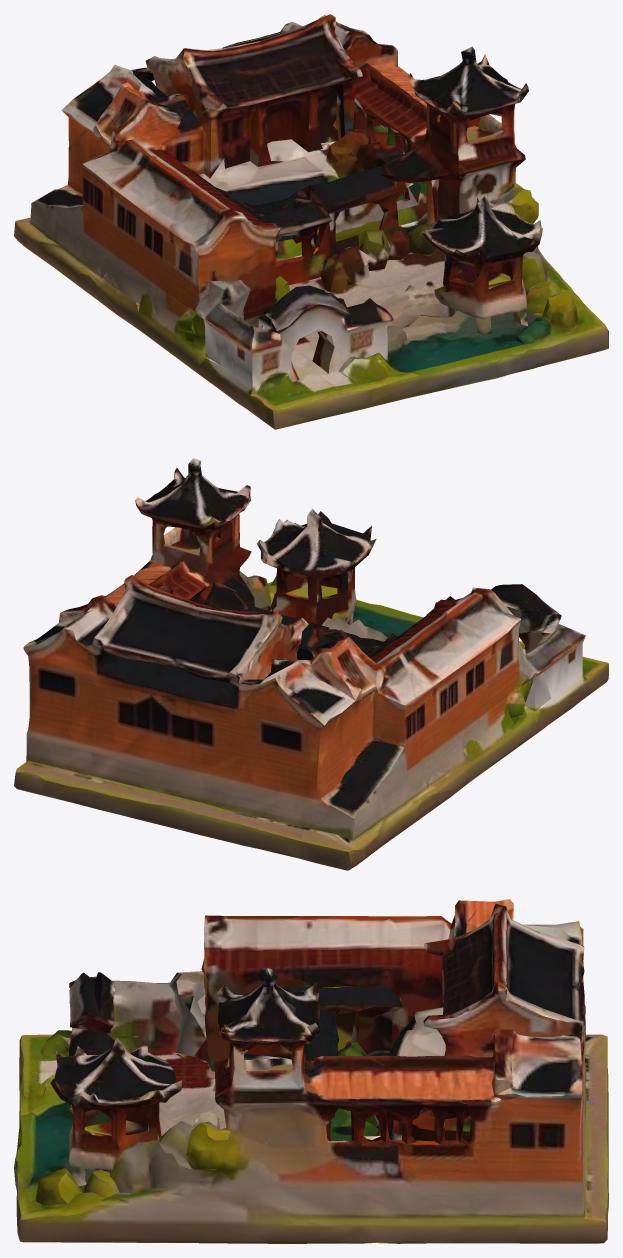
File: lin-family-mansion-garden.glb
3 renders of one model, top to bottom at view 1: azimuth 30°, elevation 25°; view 2: azimuth 150°, elevation 25°; view 3: azimuth 270°, elevation 25°, orthographic. The views are drawn at different scales.
Visible parts, largest first — view 1: logan-textured.obj; view 2: logan-textured.obj; view 3: logan-textured.obj.
Part boxes in pixels (x1,y1,x2,y2): logan-textured.obj: (14,14,608,429); logan-textured.obj: (14,458,608,870); logan-textured.obj: (14,899,608,1243).
Bounding box in the file's own units: 0.7718 × 0.4849 × 1.
Materials: 1 (1 with a texture image).
